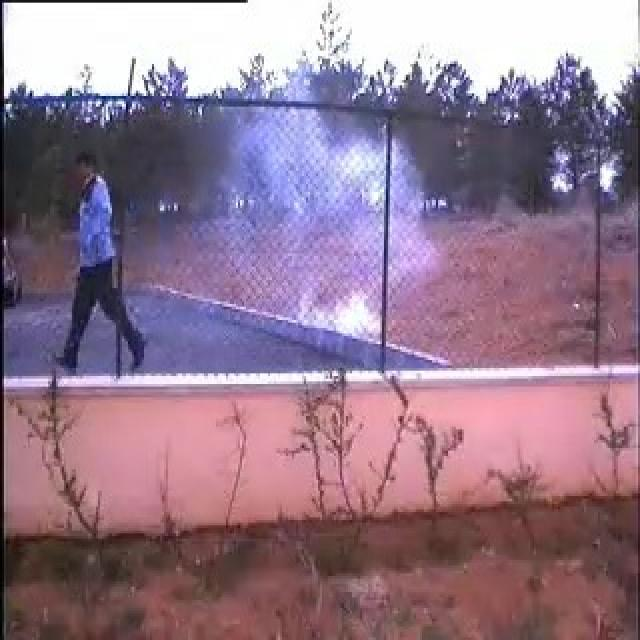smoke: (218, 109, 400, 331)
